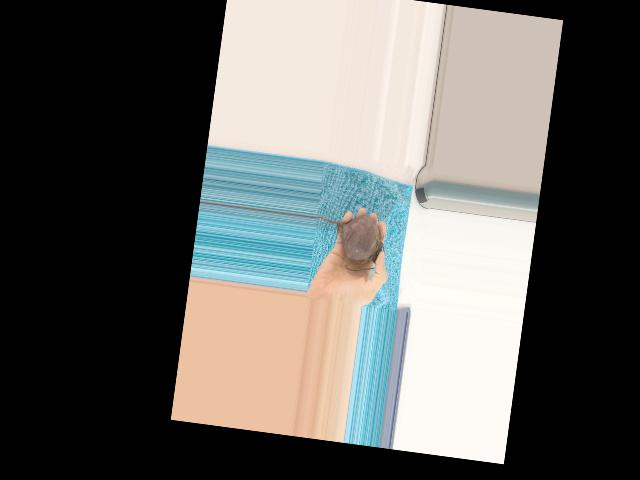beet: (309, 209, 389, 274)
